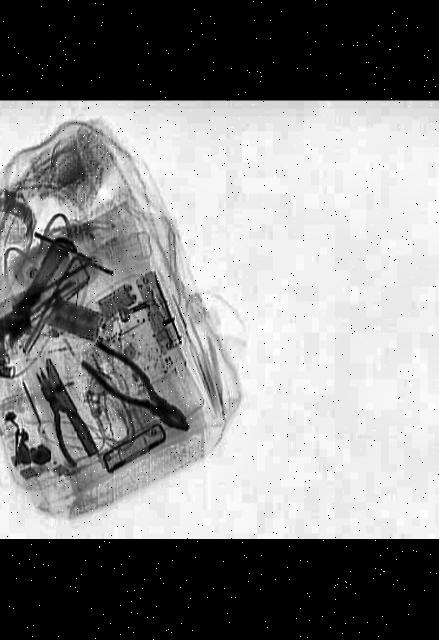Pliers: (67, 336, 202, 441), (16, 362, 102, 467)
Wrench: (0, 232, 81, 352)
